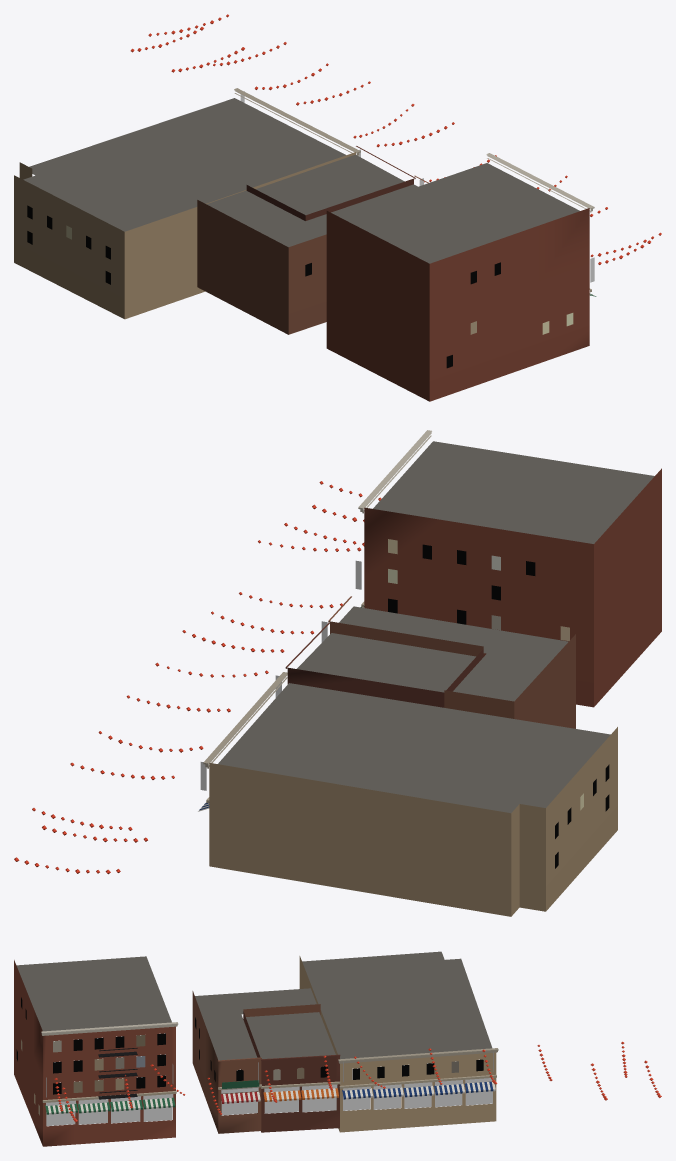
3 renders of one model, top to bottom at view 1: azimuth 30°, elevation 25°; view 2: azimuth 150°, elevation 25°; view 3: azimuth 270°, elevation 25°, orthographic. The views are drawn at different scales.
Visible parts, largest first — view 1: L1_roof, L1_brickred, L1_d_brickred, L1_brick, L1_d_brick, L1_stone, L1_lantern, L1_win; view 2: L1_roof, L1_d_brick, L1_brickred, L1_d_brickred, L1_brick, L1_win, L1_lantern, L1_stone; view 3: L1_roof, L1_brickred, L1_brick, L1_shopint, L1_d_fabric, L1_win, L1_stone, L1_sign, L1_lantern, L1_d_brickred, L1_d_metal, L1_d_brick (+1 smaller).
Part boxes in pixels (box(x1,y1,x2,y2)): L1_roof: box(23, 98, 579, 263); L1_brickred: box(288, 208, 589, 401); L1_d_brickred: box(197, 178, 429, 401); L1_brick: box(14, 162, 124, 318); L1_d_brick: box(124, 152, 355, 319); L1_stone: box(234, 88, 594, 292); L1_lantern: box(130, 14, 661, 264); L1_win: box(27, 205, 573, 368); L1_roof: box(218, 441, 654, 813); L1_d_brick: box(209, 763, 545, 916); L1_brickred: box(287, 507, 593, 718); L1_d_brickred: box(330, 468, 661, 728); L1_brick: box(511, 727, 617, 916); L1_win: box(388, 539, 609, 868); L1_lantern: box(14, 481, 381, 874); L1_stone: box(203, 430, 431, 803); L1_roof: box(16, 951, 492, 1060); L1_brickred: box(14, 960, 339, 1146); L1_brick: box(340, 1052, 496, 1132); L1_shopint: box(46, 1090, 492, 1126); L1_d_fabric: box(45, 1081, 495, 1114); L1_win: box(16, 997, 483, 1115); L1_stone: box(41, 1022, 498, 1102); L1_sign: box(46, 1052, 493, 1105); L1_lantern: box(54, 1041, 661, 1122); L1_d_brickred: box(243, 1004, 320, 1131); L1_d_metal: box(98, 1048, 137, 1099); L1_d_brick: box(299, 956, 339, 1131).
Size of the model in its own units: 56.65 by 19.14 by 90.7.
